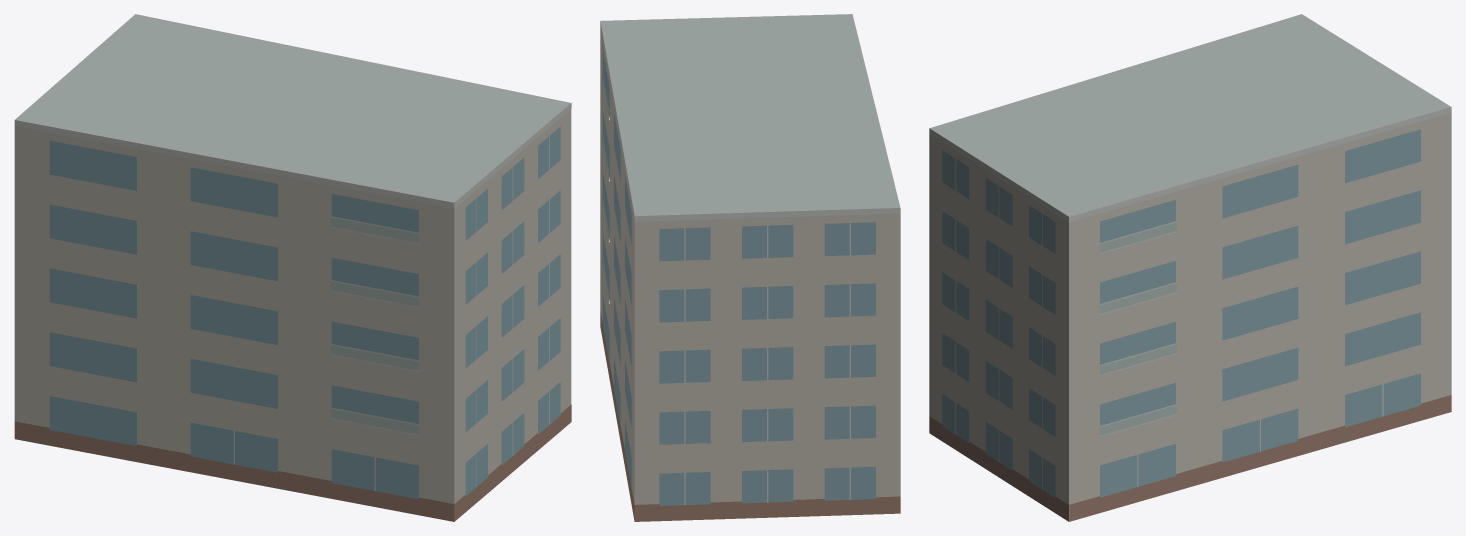
Rendered from survey-upis-33027422.glb.
3 views of the same model, side by side, from view 1: azimuth 30°, elevation 25°; view 2: azimuth 150°, elevation 25°; view 3: azimuth 270°, elevation 25° (orthographic). The views are drawn at different scales.
Parts seen in each view (by area): view 1: survey-upis-33027422.tmp; view 2: survey-upis-33027422.tmp; view 3: survey-upis-33027422.tmp.
Part boxes in pixels (box(x1,y1,x2,y2)): survey-upis-33027422.tmp: box(14, 14, 571, 521); survey-upis-33027422.tmp: box(600, 14, 900, 521); survey-upis-33027422.tmp: box(929, 14, 1451, 521).
Size of the model in its own units: 18.84 by 13.2 by 20.49.
